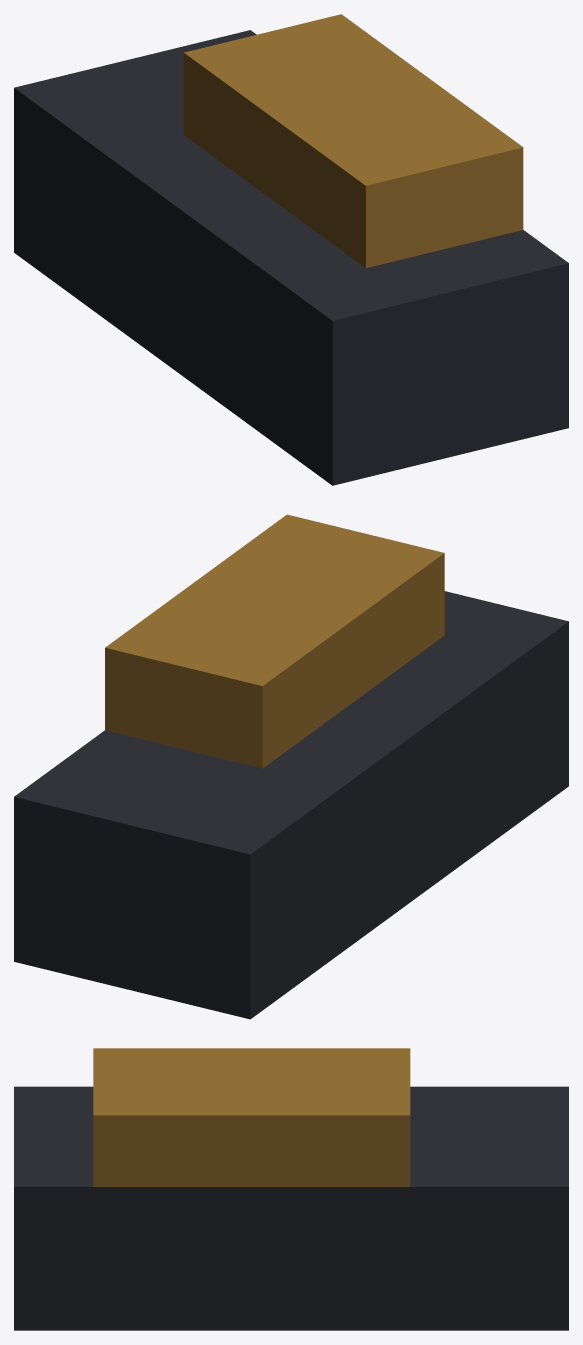
Rendered from scale_rare_boot_foot_L_lod1.glb.
The picture shows the model from 3 angles, top to bottom: view 1: azimuth 30°, elevation 25°; view 2: azimuth 150°, elevation 25°; view 3: azimuth 270°, elevation 25°; orthographic projection. The views are drawn at different scales.
Parts seen in each view (by area): view 1: scale_rare_boot_foot_L_lod1; view 2: scale_rare_boot_foot_L_lod1; view 3: scale_rare_boot_foot_L_lod1.
Boxes of the visible parts, x1,y1,x2,y2 form: scale_rare_boot_foot_L_lod1: (14, 14, 568, 485); scale_rare_boot_foot_L_lod1: (14, 514, 568, 1019); scale_rare_boot_foot_L_lod1: (14, 1048, 568, 1330).
Size of the model in its own units: 0.144 by 0.144 by 0.336.
